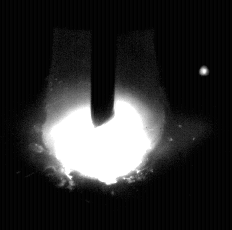arame: (91, 0, 116, 127)
poca: (41, 0, 166, 230)
